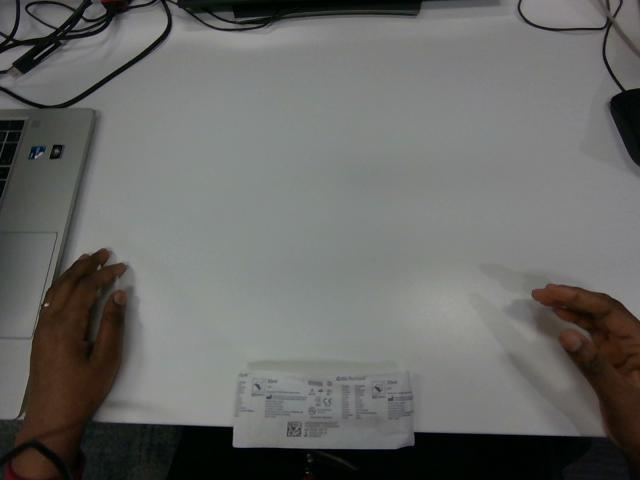syringe: (233, 370, 413, 449)
